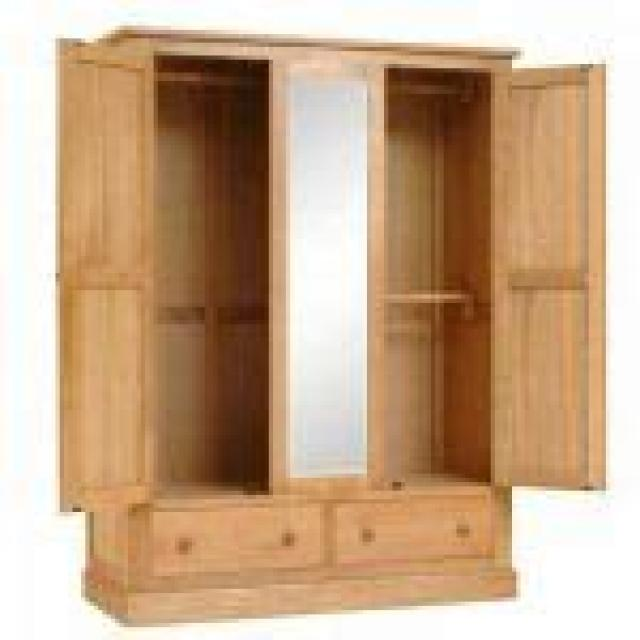Closet: (33, 18, 619, 630)
